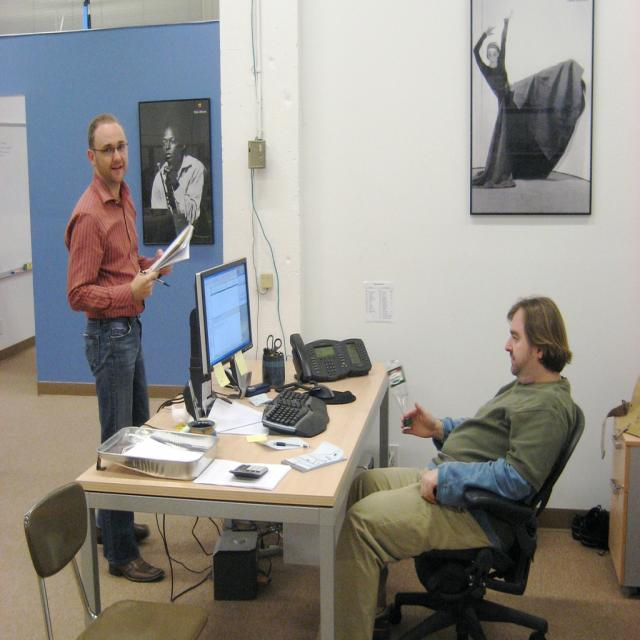chair: (386, 399, 586, 638), (25, 483, 209, 638)
desk: (74, 363, 390, 640)
keyboard: (261, 385, 329, 437)
person: (334, 296, 575, 636), (64, 112, 174, 594), (149, 126, 204, 235)
tv: (196, 256, 253, 374)
